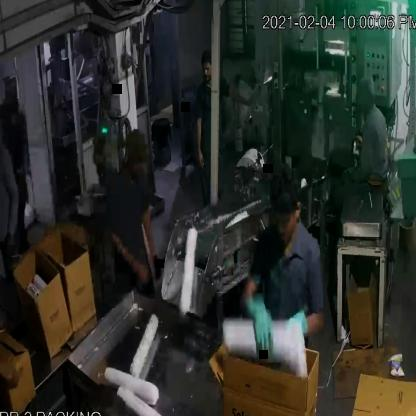glove: (236, 290, 271, 352)
no_glove: (99, 218, 151, 291), (0, 171, 24, 262), (134, 198, 162, 262), (0, 340, 25, 399), (191, 106, 210, 176), (224, 83, 254, 117)
